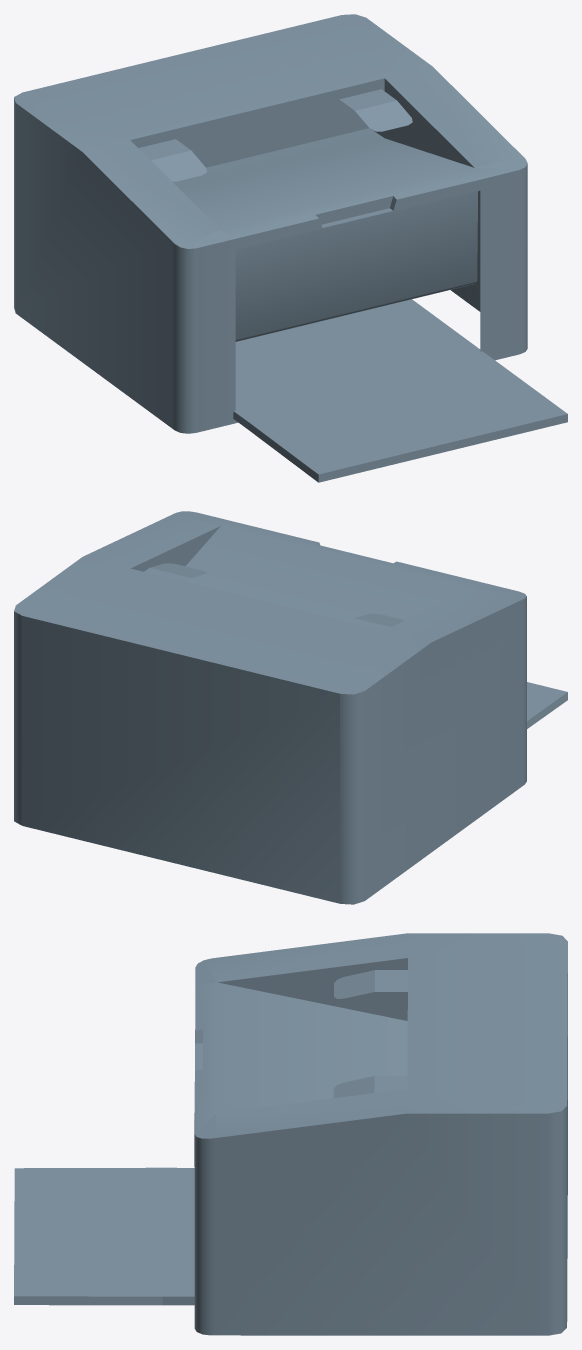
The model's file is printer.fbx.
The picture shows the model from 3 angles, top to bottom: view 1: azimuth 30°, elevation 25°; view 2: azimuth 150°, elevation 25°; view 3: azimuth 270°, elevation 25°; orthographic projection. The views are drawn at different scales.
Visible parts, largest first — view 1: printer; view 2: printer; view 3: printer.
Part boxes in pixels (<box>): printer: <box>14,14,567,482</box>; printer: <box>14,511,567,904</box>; printer: <box>14,933,567,1335</box>.
Bounding box in the file's own units: 51.25 × 29.39 × 66.42.
